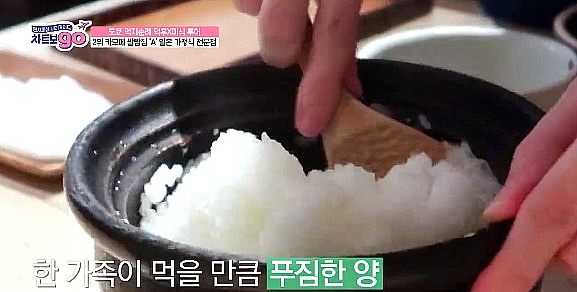ssalbab: (131, 124, 503, 256)
